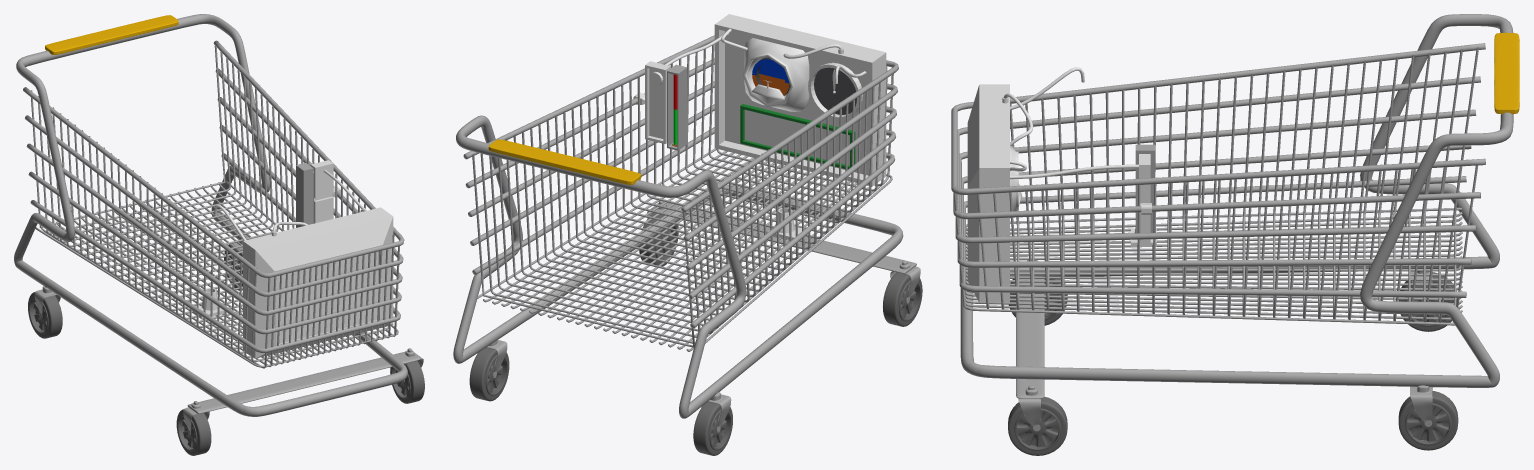
File: WozekZWyswietlaczem.fbx
3 renders of one model, left to right at view 1: azimuth 30°, elevation 25°; view 2: azimuth 150°, elevation 25°; view 3: azimuth 270°, elevation 25°, orthographic. The views are drawn at different scales.
Parts seen in each view (by area): view 1: Poziome, poprzeczne, Cube, Frama, pion, Podpora, Osłona, MiejsceNaPrzyciski, Koło SW, Koło NW, Cube.006, Koło NE; view 2: Poziome, poprzeczne, Frama, pion, Cube, Wyswietlacz, Cube.002, Osłona, Circle.002, MiejsceNaPrzyciski, Podpora, Koło NW (+5 smaller); view 3: poprzeczne, Poziome, pion, Frama, Cube, Koło NE, Koło SE, Podpora, Osłona, MiejsceNaPrzyciski, Koło SW, Cube.006 (+3 smaller).
Part boxes in pixels (left/top/right/bottom): Poziome: left=31, top=45, right=394, bottom=361; poprzeczne: left=23, top=40, right=404, bottom=353; Cube: left=243, top=207, right=393, bottom=358; Frama: left=14, top=14, right=407, bottom=416; pion: left=35, top=180, right=399, bottom=368; Podpora: left=187, top=352, right=420, bottom=413; Osłona: left=45, top=15, right=178, bottom=54; MiejsceNaPrzyciski: left=310, top=160, right=340, bottom=223; Koło SW: left=28, top=292, right=62, bottom=338; Koło NW: left=176, top=409, right=211, bottom=455; Cube.006: left=296, top=162, right=313, bottom=227; Koło NE: left=390, top=361, right=424, bottom=403; Poziome: left=472, top=45, right=887, bottom=347; poprzeczne: left=463, top=35, right=898, bottom=328; Frama: left=453, top=115, right=903, bottom=418; pion: left=477, top=66, right=893, bottom=351; Cube: left=714, top=14, right=886, bottom=186; Wyswietlacz: left=740, top=104, right=855, bottom=169; Cube.002: left=743, top=38, right=809, bottom=112; Osłona: left=488, top=139, right=641, bottom=184; Circle.002: left=808, top=62, right=862, bottom=120; MiejsceNaPrzyciski: left=633, top=61, right=670, bottom=143; Podpora: left=651, top=202, right=916, bottom=273; Koło NW: left=883, top=272, right=922, bottom=326; poprzeczne: left=951, top=43, right=1485, bottom=297; Poziome: left=977, top=47, right=1478, bottom=322; pion: left=953, top=193, right=1462, bottom=325; Frama: left=960, top=14, right=1513, bottom=387; Cube: left=967, top=84, right=1009, bottom=302; Koło NE: left=1008, top=396, right=1067, bottom=455; Koło SE: left=1398, top=391, right=1458, bottom=450; Podpora: left=1016, top=279, right=1044, bottom=398; Osłona: left=1494, top=32, right=1519, bottom=114; MiejsceNaPrzyciski: left=1139, top=154, right=1151, bottom=245; Koło SW: left=1398, top=272, right=1456, bottom=331; Cube.006: left=1135, top=144, right=1155, bottom=233.
Bounding box in the file's own units: 152 × 160 × 260.
